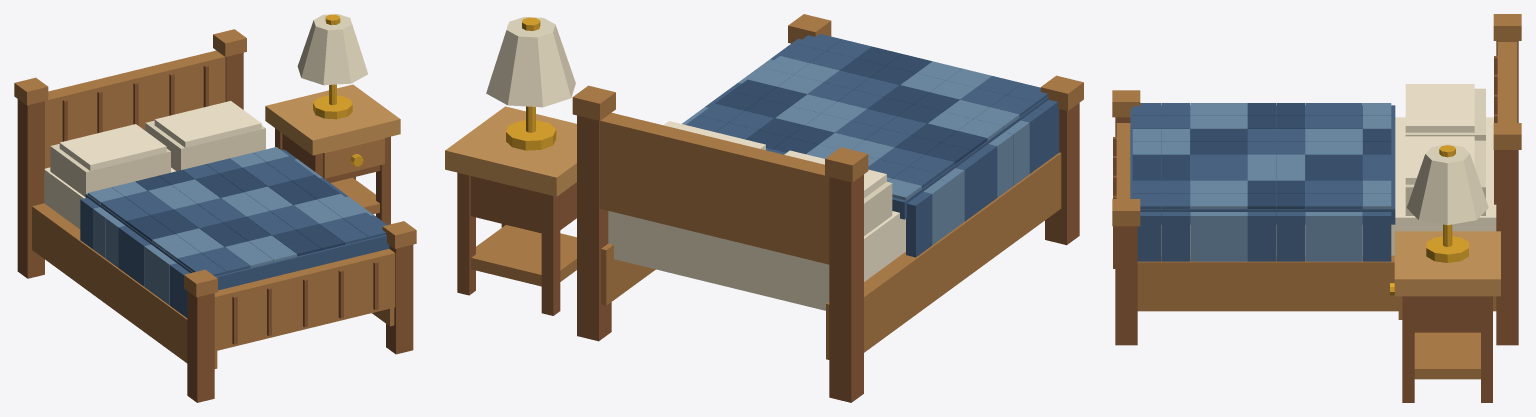
Rendered from bed.glb.
3 views of the same model, side by side, from view 1: azimuth 30°, elevation 25°; view 2: azimuth 150°, elevation 25°; view 3: azimuth 270°, elevation 25° (orthographic). The views are drawn at different scales.
Parts seen in each view (by area): view 1: bed_frame__wood2, bed_frame__blue, bed_frame__wood, bed_frame__blue2, bed_frame__white, bed_frame__blue3, bed_frame__cream, bedside_table__wood3, bedside_table__cream, bedside_table__wood2, bedside_table__wood, bedside_table__yellow; view 2: bed_frame__wood2, bed_frame__blue, bed_frame__wood, bed_frame__blue2, bed_frame__white, bed_frame__blue3, bedside_table__wood, bedside_table__wood3, bedside_table__cream, bedside_table__wood2, bedside_table__yellow, bed_frame__cream; view 3: bed_frame__wood2, bed_frame__blue, bed_frame__blue2, bed_frame__blue3, bed_frame__white, bed_frame__wood, bedside_table__wood3, bedside_table__wood, bedside_table__cream, bedside_table__wood2, bed_frame__cream, bedside_table__yellow.
Boxes of the visible parts, bbox=[...] form: bed_frame__wood2: bbox=[14, 29, 416, 368]; bed_frame__blue: bbox=[80, 149, 389, 317]; bed_frame__wood: bbox=[17, 52, 413, 402]; bed_frame__blue2: bbox=[88, 147, 373, 305]; bed_frame__white: bbox=[44, 101, 261, 229]; bed_frame__blue3: bbox=[126, 168, 344, 256]; bed_frame__cream: bbox=[50, 120, 265, 196]; bedside_table__wood3: bbox=[265, 84, 400, 155]; bedside_table__cream: bbox=[297, 14, 367, 85]; bedside_table__wood2: bbox=[323, 138, 384, 214]; bedside_table__wood: bbox=[275, 128, 390, 224]; bedside_table__yellow: bbox=[313, 14, 363, 166]; bed_frame__wood2: bbox=[572, 14, 1083, 359]; bed_frame__blue: bbox=[686, 34, 1059, 257]; bed_frame__wood: bbox=[577, 103, 1079, 402]; bed_frame__blue2: bbox=[682, 56, 1029, 245]; bed_frame__white: bbox=[608, 121, 905, 310]; bed_frame__blue3: bbox=[715, 46, 987, 164]; bedside_table__wood: bbox=[457, 172, 576, 315]; bedside_table__wood3: bbox=[445, 106, 576, 196]; bedside_table__cream: bbox=[486, 17, 575, 107]; bedside_table__wood2: bbox=[471, 225, 576, 286]; bedside_table__yellow: bbox=[506, 17, 556, 150]; bed_frame__cream: bbox=[864, 182, 892, 235]; bed_frame__wood2: bbox=[1112, 14, 1521, 311]; bed_frame__blue: bbox=[1130, 103, 1395, 261]; bed_frame__blue2: bbox=[1132, 103, 1391, 261]; bed_frame__blue3: bbox=[1132, 103, 1391, 208]; bed_frame__white: bbox=[1161, 84, 1496, 255]; bed_frame__wood: bbox=[1113, 41, 1518, 345]; bedside_table__wood3: bbox=[1394, 231, 1500, 296]; bedside_table__wood: bbox=[1402, 296, 1492, 402]; bedside_table__cream: bbox=[1406, 144, 1488, 225]; bedside_table__wood2: bbox=[1398, 296, 1480, 379]; bed_frame__cream: bbox=[1405, 88, 1485, 215]; bedside_table__yellow: bbox=[1390, 145, 1468, 295].
Bounding box in the file's own units: 2.29 × 1.38 × 2.19.
